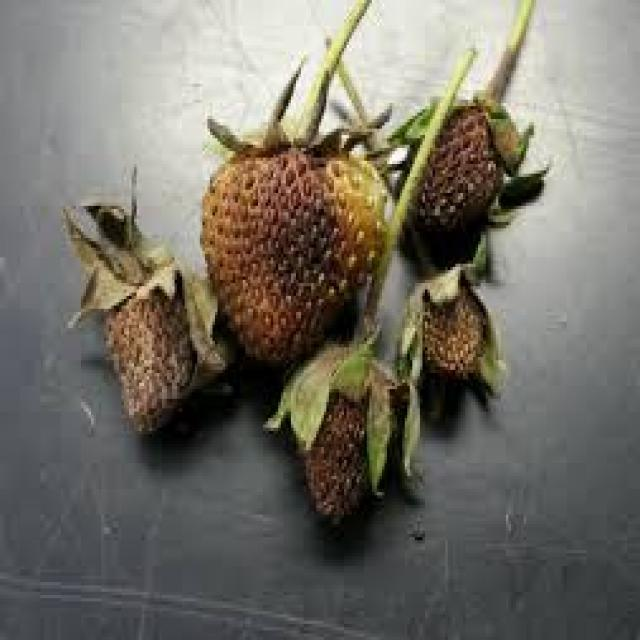Podredumbre de cuero: (196, 125, 394, 365), (94, 198, 226, 443), (396, 77, 519, 252), (285, 348, 402, 526), (406, 256, 496, 393)
